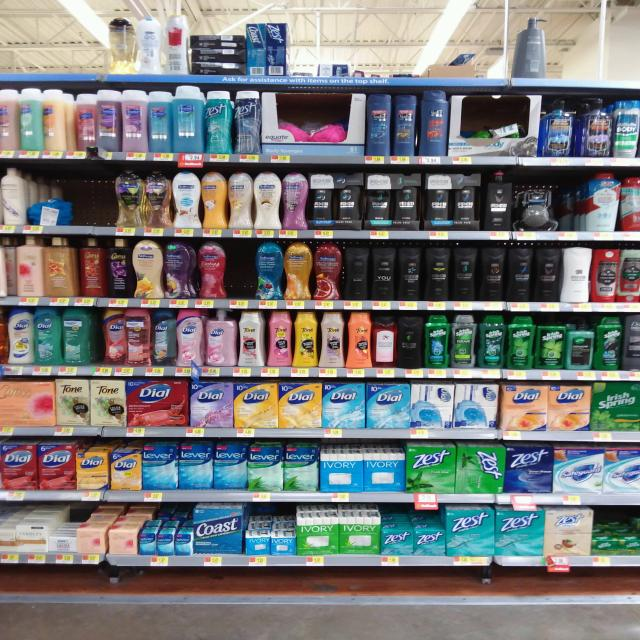empty: (62, 169, 118, 230), (218, 242, 261, 299)
